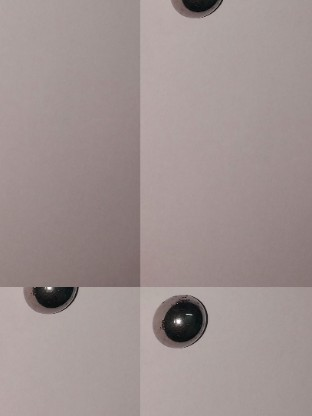ironball: (147, 291, 209, 350), (18, 288, 80, 319), (169, 0, 227, 21)
